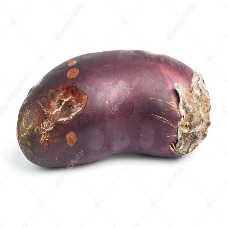eggplant: (19, 49, 210, 169)
